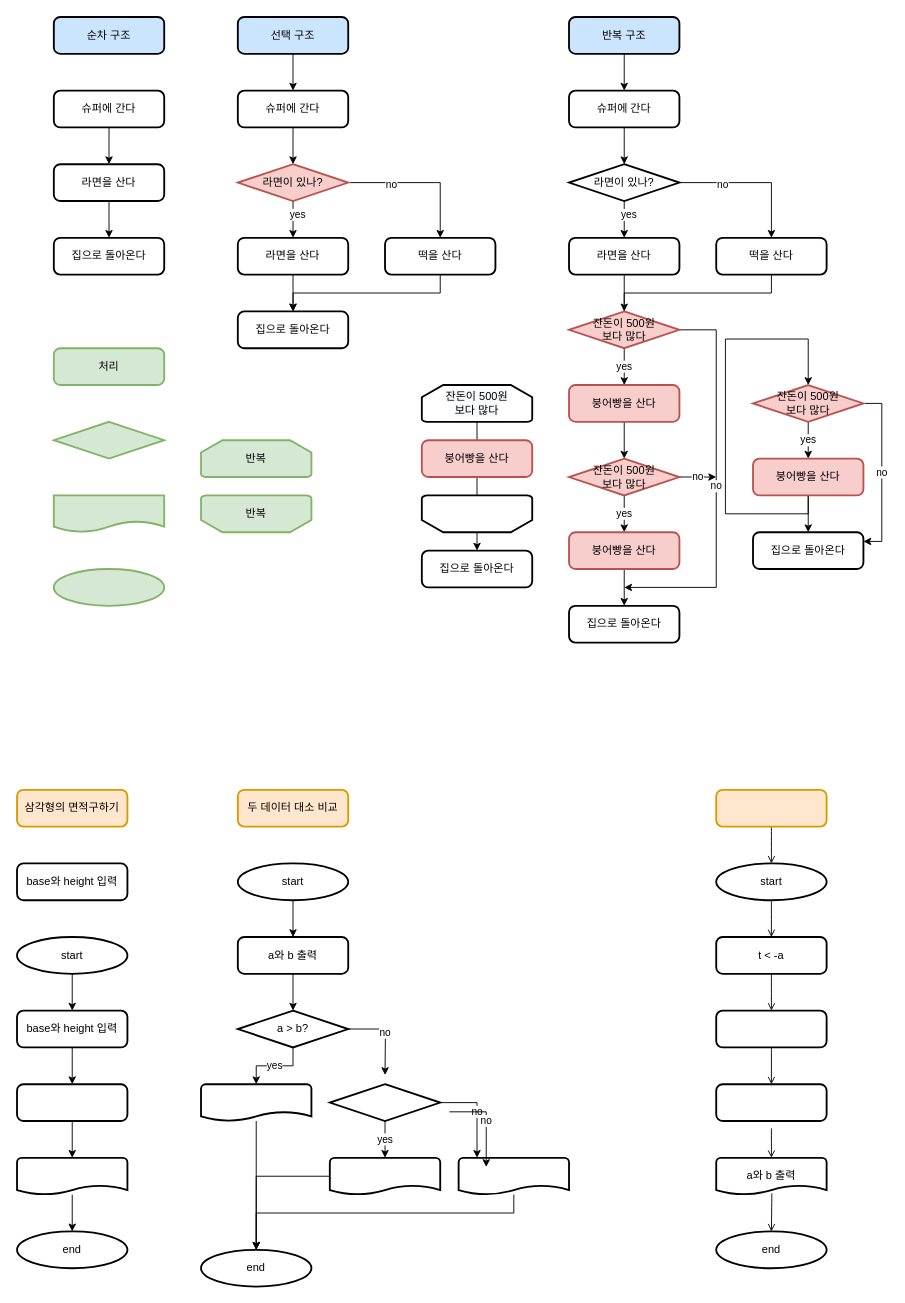
The diagram is 905 pixels wide and 1303 high, and some of its shapes have lost their labels. Each missing label, with the centre of its shape:
a <- b: the point at 771,1028
a 출력: the point at 256,1102
a=b?: the point at 384,1102
area: the point at 72,1175
area = base*height/2: the point at 72,1102
a와 b가 같다 출력: the point at 384,1175
b <- t: the point at 771,1102
b 출력: the point at 513,1175
두 변수의 데이터 교환: the point at 771,807
분기: the point at 108,439
시작/끝: the point at 108,587
출력: the point at 108,513
